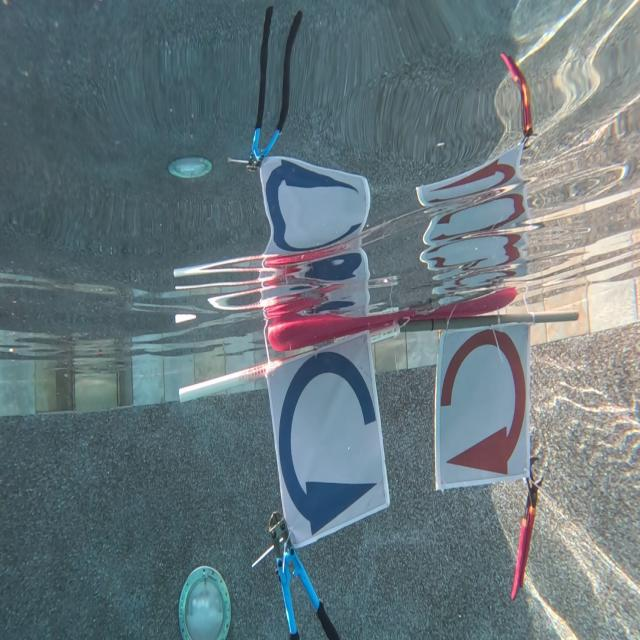blue_side: (275, 342, 385, 530)
red_side: (436, 335, 518, 475)
